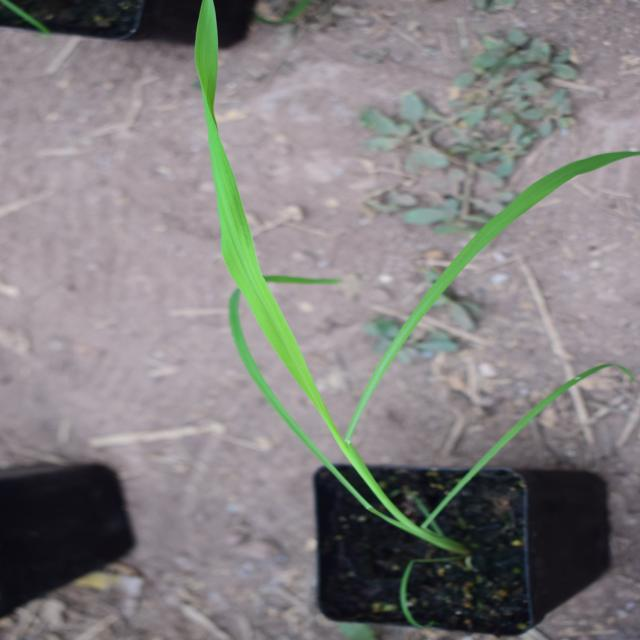barnyard_grass: (76, 169, 634, 569)
